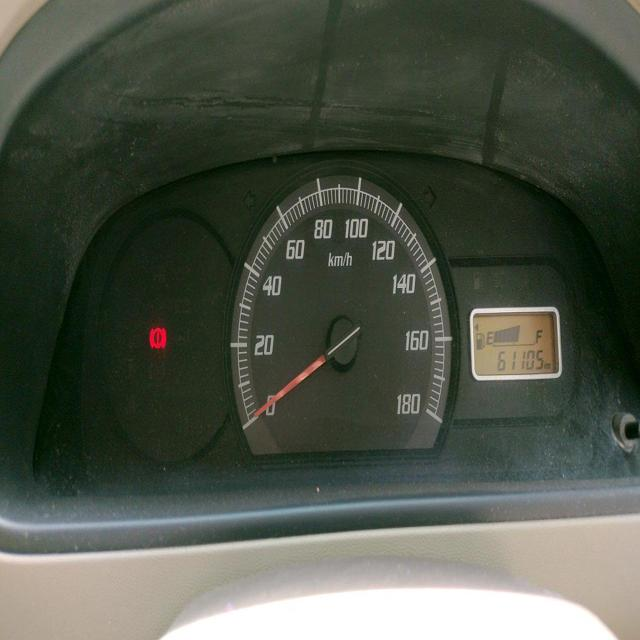odometer: (496, 346, 544, 375)
